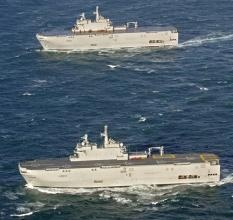warship: (17, 122, 223, 187), (36, 11, 181, 57)
